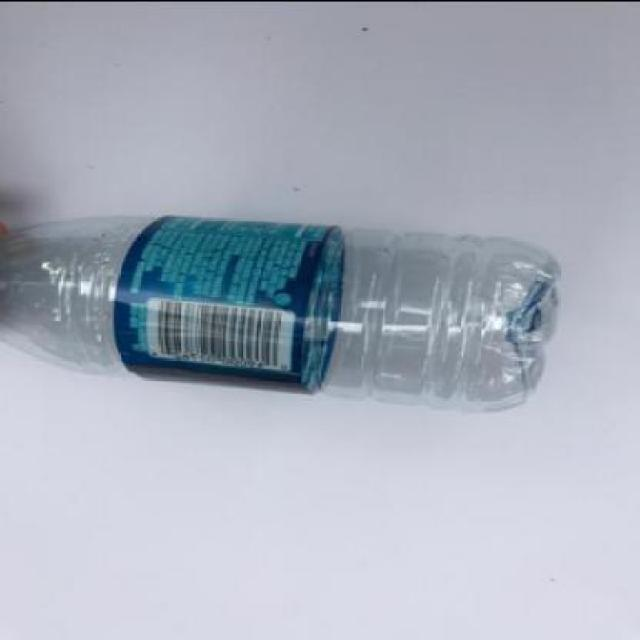PLASTIC: (2, 212, 560, 412), (113, 215, 347, 394)
